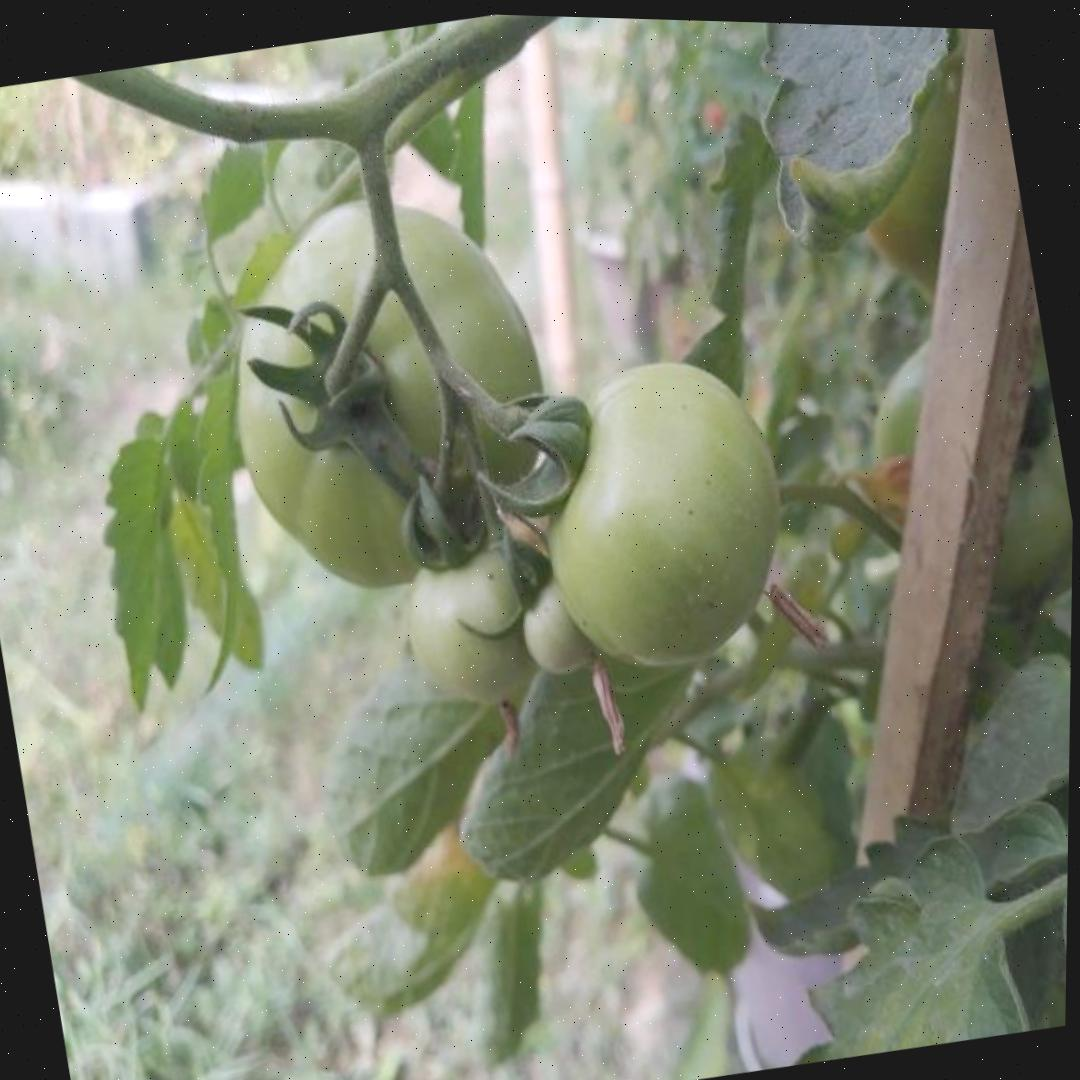mentah: (199, 164, 577, 615), (517, 345, 810, 692), (392, 530, 552, 720)
